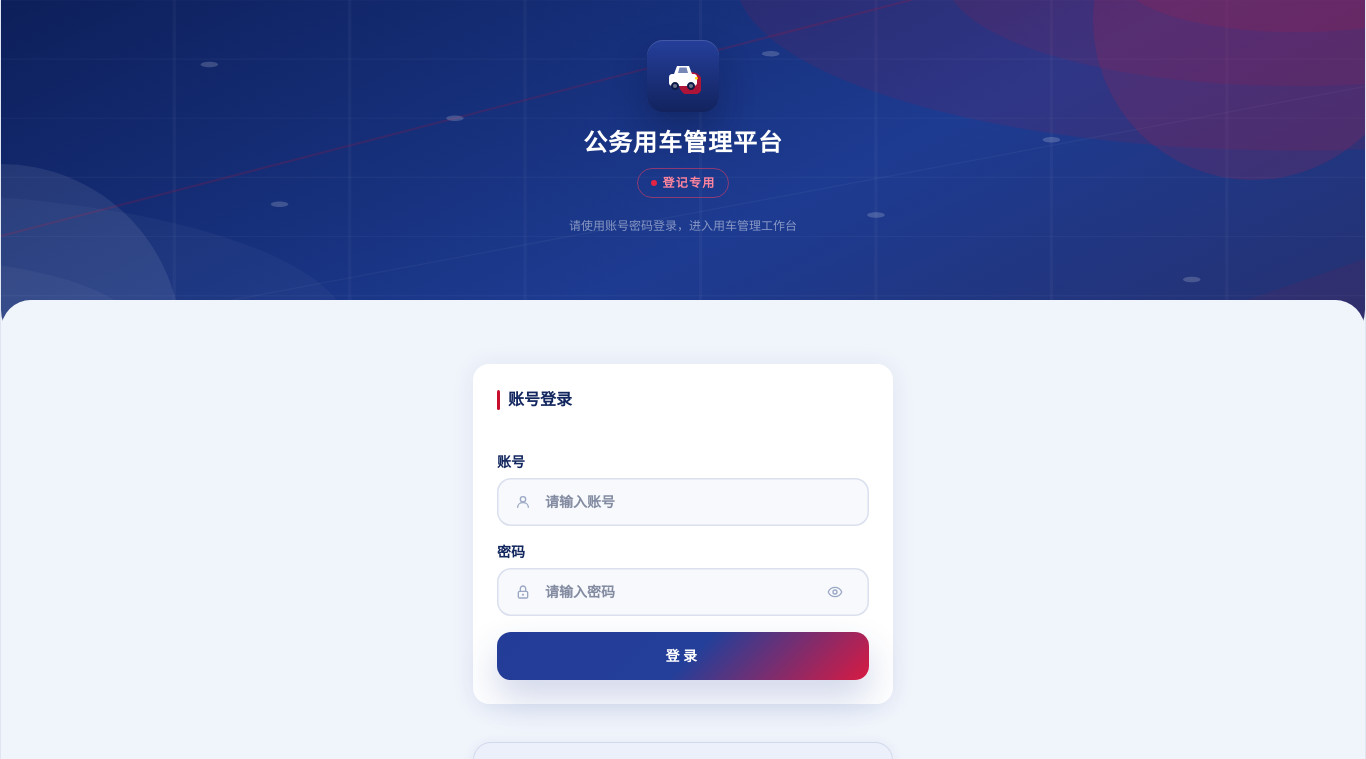
Test case: Issue 1 authentication UI › does not submit login when username and password are blank
The width and height of the screenshot is (1366, 759).
Click the button "登录" at {"x": 683, "y": 656}, box [497, 632, 869, 680]
(page scrolled)
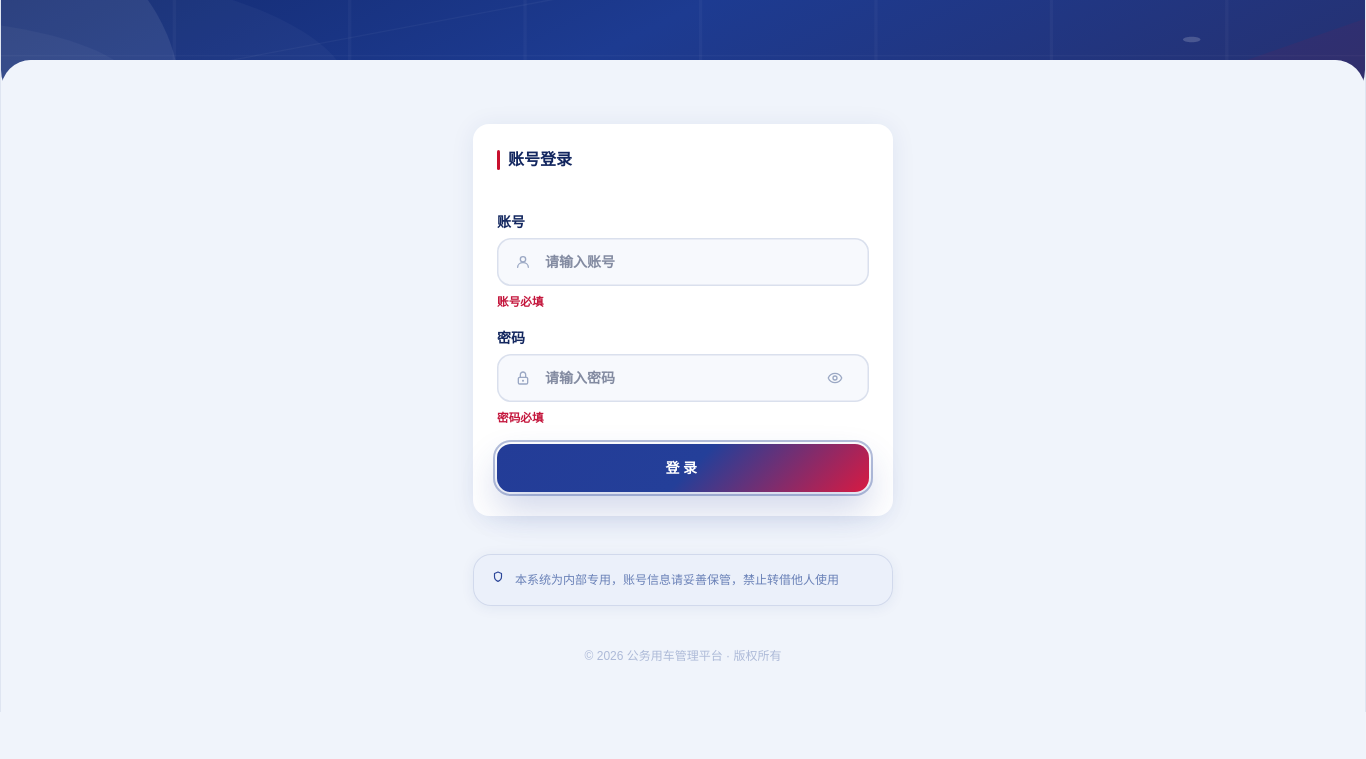
Expected: the text "© 2026 公务用车管理平台 · 版权所有" is shown, [585, 649, 782, 663]
Expected: the text "账号必填" is shown, [497, 295, 544, 308]
Expected: the text "密码必填" is shown, [497, 411, 544, 424]
